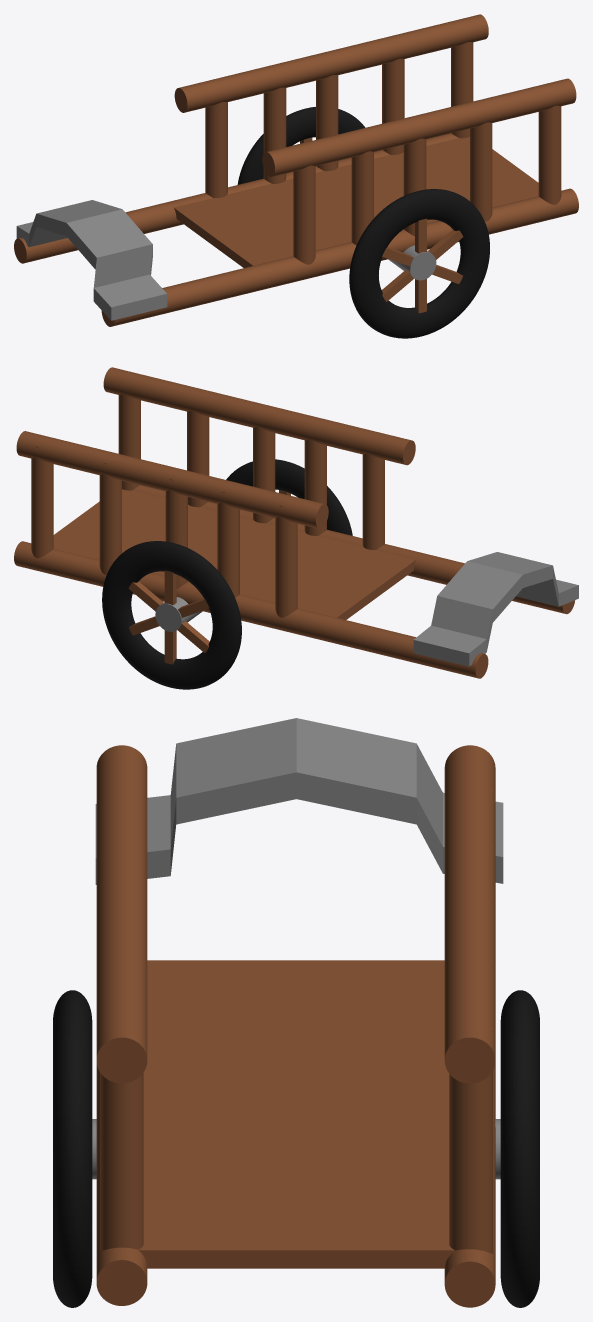
File: Carriage.fbx
The picture shows the model from 3 angles, top to bottom: view 1: azimuth 30°, elevation 25°; view 2: azimuth 150°, elevation 25°; view 3: azimuth 270°, elevation 25°; orthographic projection. The views are drawn at different scales.
Visible parts, largest first — view 1: Cube, Torus.001, Cube.001, Cylinder.004, Cylinder.001, Cylinder.002, Cylinder.009, Cylinder.005, Cylinder.006, Cylinder.008, Cylinder.003, Cylinder.007 (+5 smaller); view 2: Cube, Torus, Cube.001, Cylinder.003, Cylinder.002, Cylinder.001, Cylinder.009, Cylinder.005, Cylinder.006, Cylinder.008, Cylinder.007, Cylinder.004 (+5 smaller); view 3: Cube, Cube.001, Cylinder.002, Cylinder.001, Cylinder.005, Torus, Torus.001, Cylinder.004, Cylinder.003.
Part boxes in pixels (left/top/right/bottom): Cube: left=174, top=137, right=538, bottom=267; Torus.001: left=349, top=189, right=489, bottom=338; Cube.001: left=16, top=200, right=167, bottom=320; Cylinder.004: left=101, top=188, right=578, bottom=326; Cylinder.001: left=174, top=14, right=488, bottom=112; Cylinder.002: left=262, top=78, right=576, bottom=176; Cylinder.009: left=205, top=102, right=315, bottom=264; Cylinder.005: left=451, top=42, right=561, bottom=204; Cylinder.006: left=382, top=58, right=492, bottom=221; Cylinder.008: left=263, top=87, right=373, bottom=245; Cylinder.003: left=14, top=133, right=458, bottom=263; Cylinder.007: left=316, top=75, right=426, bottom=236; Cube: left=53, top=489, right=415, bottom=619; Torus: left=102, top=541, right=241, bottom=689; Cube.001: left=413, top=552, right=578, bottom=666; Cylinder.003: left=14, top=541, right=488, bottom=678; Cylinder.002: left=103, top=367, right=415, bottom=465; Cylinder.001: left=16, top=431, right=328, bottom=528; Cylinder.009: left=275, top=453, right=384, bottom=617; Cylinder.005: left=31, top=394, right=140, bottom=558; Cylinder.006: left=99, top=411, right=209, bottom=574; Cylinder.008: left=217, top=439, right=326, bottom=597; Cylinder.007: left=165, top=427, right=275, bottom=589; Cylinder.004: left=132, top=485, right=574, bottom=614; Cube: left=138, top=960, right=454, bottom=1268; Cube.001: left=95, top=718, right=503, bottom=884; Cylinder.002: left=96, top=745, right=147, bottom=1083; Cylinder.001: left=444, top=745, right=495, bottom=1083; Cylinder.005: left=100, top=1027, right=492, bottom=1253; Torus: left=500, top=990, right=539, bottom=1307; Torus.001: left=53, top=990, right=92, bottom=1307; Cylinder.004: left=96, top=1064, right=147, bottom=1305; Cylinder.003: left=444, top=1062, right=495, bottom=1307.
Bounding box in the file's own units: 886 × 376 × 402.
